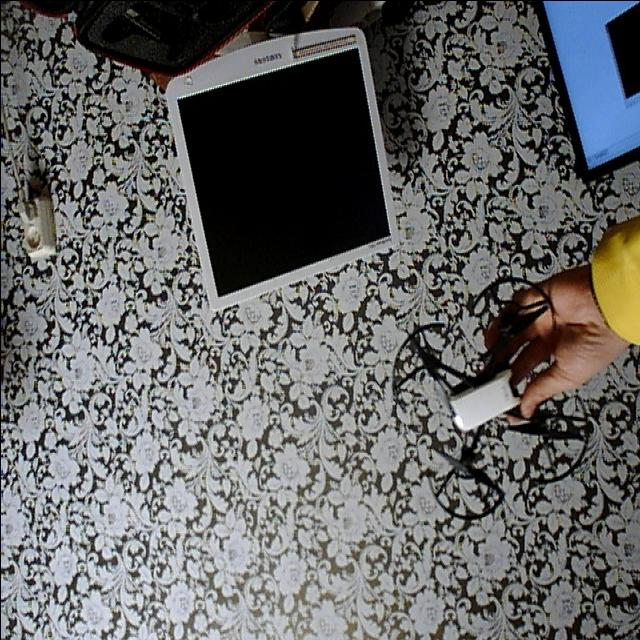drone: (388, 270, 596, 534)
